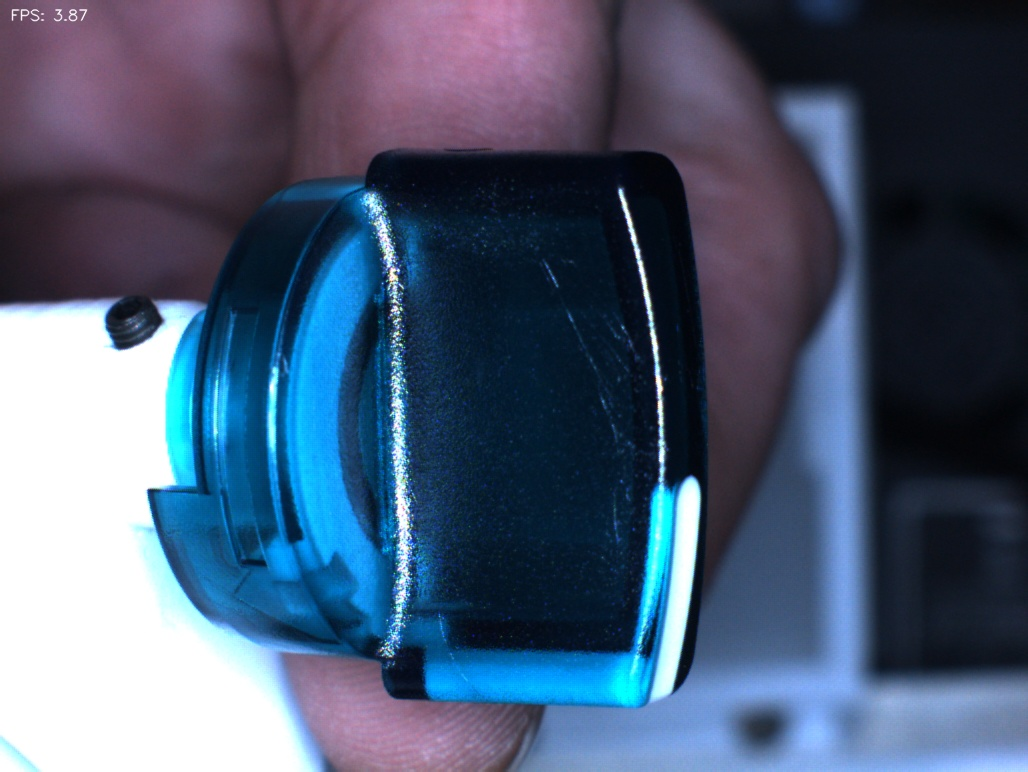Givrage: (534, 251, 651, 525)
